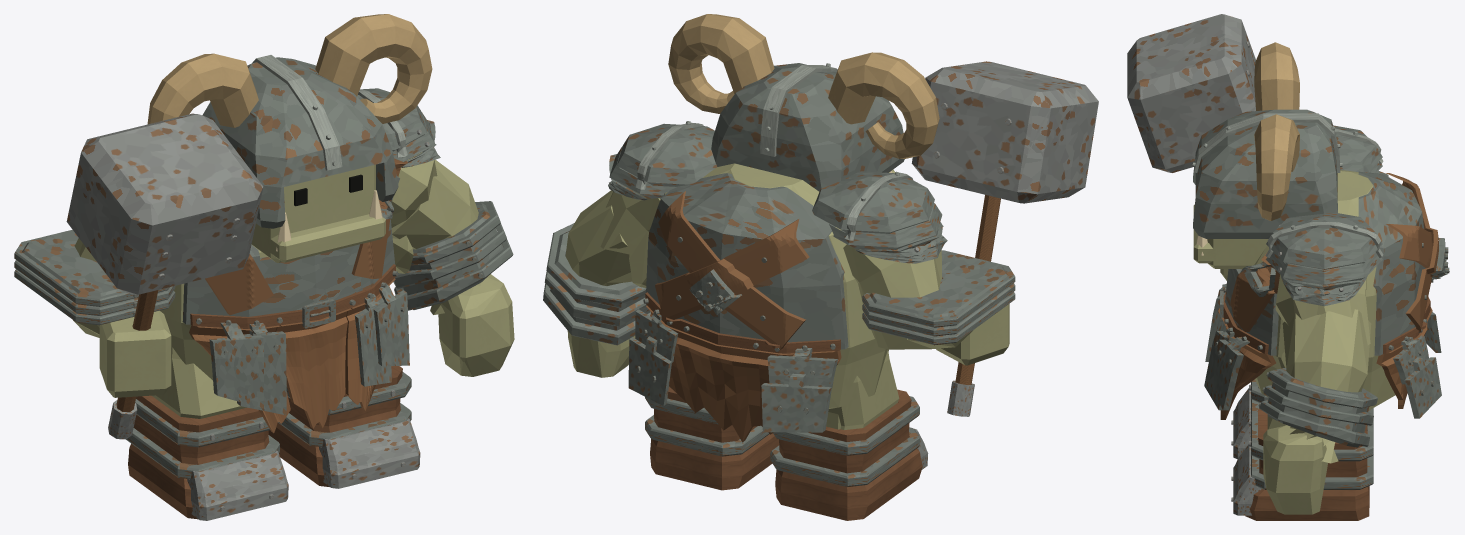
Rendered from host_22.glb.
3 views of the same model, side by side, from view 1: azimuth 30°, elevation 25°; view 2: azimuth 150°, elevation 25°; view 3: azimuth 270°, elevation 25° (orthographic). The views are drawn at different scales.
Parts seen in each view (by area): view 1: Weapon — source cube giant cubic steel head, Helmet continuous fitted roof, rectangular brow and side gua, Body — continuous source torso, four joints and planted legs, Source ram horn — broad tapered inward spiral -1, Bounded actual Source22 complete compact front cuirass plate, Boot — source armor 1, Hand — LEFT connected source fist and wrist, Source ram horn — broad tapered inward spiral 1, Source22 cloth — complete FRONT CENTRE ragged Source petal, Hand — RIGHT source compact planar grasp, Source Ram foot — actual angular toe cap and short lame -1, Source Ram foot — actual angular toe cap and short lame 1 (+30 smaller); view 2: Weapon — source cube giant cubic steel head, Body — continuous source torso, four joints and planted legs, Bounded actual Source22 complete compact rear cuirass plate, Helmet continuous fitted roof, rectangular brow and side gua, Boot — source armor 1, Source22 cloth — complete BACK ragged Source fall, Source ram horn — broad tapered inward spiral 1, Source ram horn — broad tapered inward spiral -1, Boot — source armor -1, Shoulder — 1 overlapping tier 1, Harness — rear diagonal 1, Harness — rear diagonal -1 (+29 smaller); view 3: Weapon — source cube giant cubic steel head, Body — continuous source torso, four joints and planted legs, Helmet continuous fitted roof, rectangular brow and side gua, Bounded actual Source22 complete compact rear cuirass plate, Hand — LEFT connected source fist and wrist, Shoulder — -1 overlapping tier 1, Boot — source armor -1, Source ram horn — broad tapered inward spiral -1, Source ram horn — broad tapered inward spiral 1, Cuff — LEFT source wrist exterior, Shoulder — -1 overlapping tier 2, Pending source ram — broad exterior breastplate leather -1 (+27 smaller).
Part boxes in pixels (<box>): Weapon — source cube giant cubic steel head: <box>66,113,263,294</box>; Helmet continuous fitted roof, rectangular brow and side gua: <box>202,57,398,228</box>; Body — continuous source torso, four joints and planted legs: <box>73,152,480,418</box>; Source ram horn — broad tapered inward spiral -1: <box>315,14,432,123</box>; Bounded actual Source22 complete compact front cuirass plate: <box>182,219,395,324</box>; Boot — source armor 1: <box>128,395,269,519</box>; Hand — LEFT connected source fist and wrist: <box>438,274,514,376</box>; Source ram horn — broad tapered inward spiral 1: <box>147,53,258,127</box>; Source22 cloth — complete FRONT CENTRE ragged Source petal: <box>275,308,351,428</box>; Hand — RIGHT source compact planar grasp: <box>99,310,171,397</box>; Source Ram foot — actual angular toe cap and short lame -1: <box>319,418,420,488</box>; Source Ram foot — actual angular toe cap and short lame 1: <box>187,450,288,520</box>; Weapon — source cube giant cubic steel head: <box>911,61,1098,203</box>; Body — continuous source torso, four joints and planted legs: <box>565,163,973,429</box>; Bounded actual Source22 complete compact rear cuirass plate: <box>646,173,848,349</box>; Helmet continuous fitted roof, rectangular brow and side gua: <box>711,63,904,191</box>; Boot — source armor 1: <box>775,389,922,520</box>; Source22 cloth — complete BACK ragged Source fall: <box>646,305,841,442</box>; Source ram horn — broad tapered inward spiral 1: <box>828,52,939,158</box>; Source ram horn — broad tapered inward spiral -1: <box>668,14,774,113</box>; Boot — source armor -1: <box>650,386,779,490</box>; Shoulder — 1 overlapping tier 1: <box>812,171,934,233</box>; Harness — rear diagonal 1: <box>655,219,809,321</box>; Harness — rear diagonal -1: <box>658,191,805,349</box>; Weapon — source cube giant cubic steel head: <box>1127,14,1255,172</box>; Body — continuous source torso, four joints and planted legs: <box>1242,170,1395,463</box>; Helmet continuous fitted roof, rectangular brow and side gua: <box>1193,109,1337,238</box>; Bounded actual Source22 complete compact rear cuirass plate: <box>1358,171,1425,355</box>; Hand — LEFT connected source fist and wrist: <box>1263,425,1327,514</box>; Shoulder — -1 overlapping tier 1: <box>1266,213,1382,269</box>; Boot — source armor -1: <box>1245,409,1369,520</box>; Source ram horn — broad tapered inward spiral -1: <box>1254,114,1299,220</box>; Source ram horn — broad tapered inward spiral 1: <box>1254,42,1299,110</box>; Cuff — LEFT source wrist exterior: <box>1267,369,1370,447</box>; Shoulder — -1 overlapping tier 2: <box>1266,252,1382,284</box>; Pending source ram — broad exterior breastplate leather -1: <box>1230,252,1279,331</box>.
Size of the model in its own units: 4.96 by 4.48 by 3.33.
18 materials, 15 textured.
